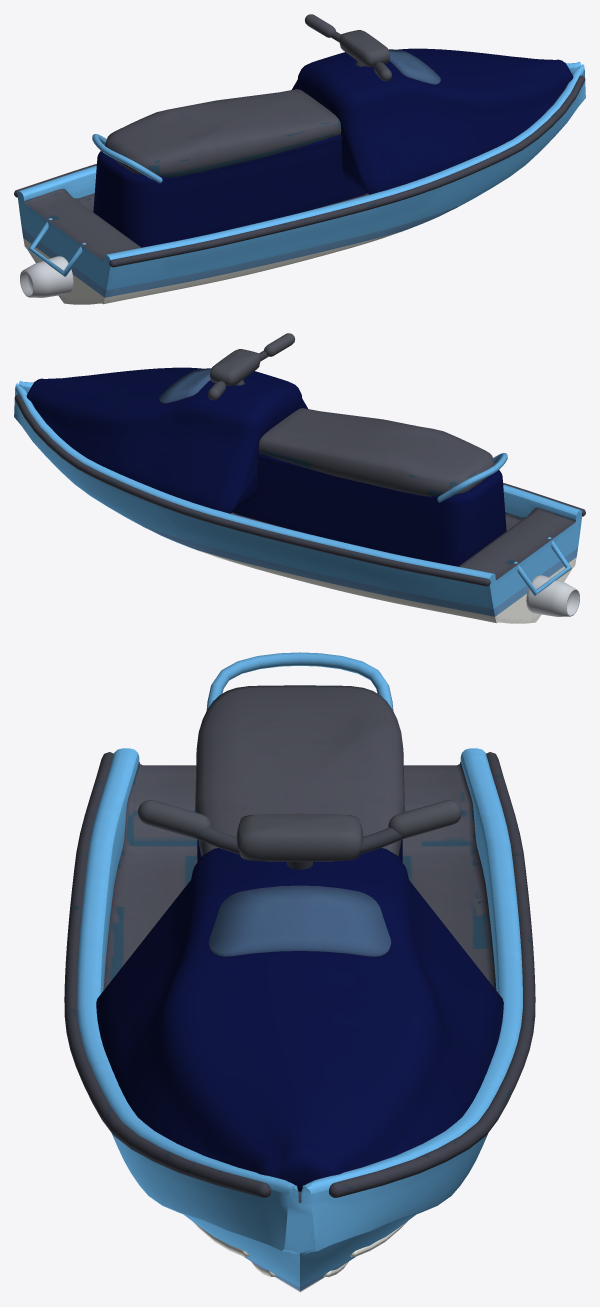
Rendered from sea-doo-wake-155-2013.glb.
The picture shows the model from 3 angles, top to bottom: view 1: azimuth 30°, elevation 25°; view 2: azimuth 150°, elevation 25°; view 3: azimuth 270°, elevation 25°; orthographic projection. The views are drawn at different scales.
Visible parts, largest first — view 1: jet-ski_body, jet-ski_handlebar, jet-ski_jet_nozzle; view 2: jet-ski_body, jet-ski_handlebar, jet-ski_jet_nozzle; view 3: jet-ski_body, jet-ski_handlebar.
Boxes of the visible parts, bbox=[...] form: jet-ski_body: bbox=[14, 48, 585, 304]; jet-ski_handlebar: bbox=[305, 14, 391, 81]; jet-ski_jet_nozzle: bbox=[20, 256, 73, 297]; jet-ski_body: bbox=[14, 367, 585, 623]; jet-ski_handlebar: bbox=[208, 333, 294, 400]; jet-ski_jet_nozzle: bbox=[526, 575, 579, 616]; jet-ski_body: bbox=[64, 652, 535, 1292]; jet-ski_handlebar: bbox=[138, 800, 461, 869].
Size of the model in its own units: 3.5 by 1.19 by 1.29.
Materials: 4 (1 with a texture image).
